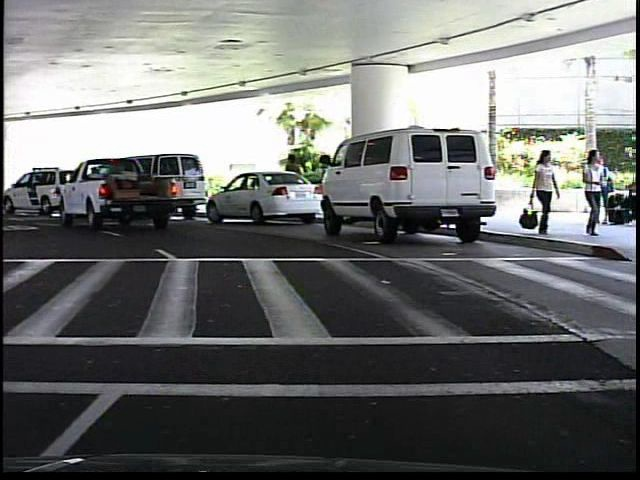person: (578, 147, 607, 239), (530, 146, 559, 235), (283, 150, 308, 213), (601, 155, 613, 228)
